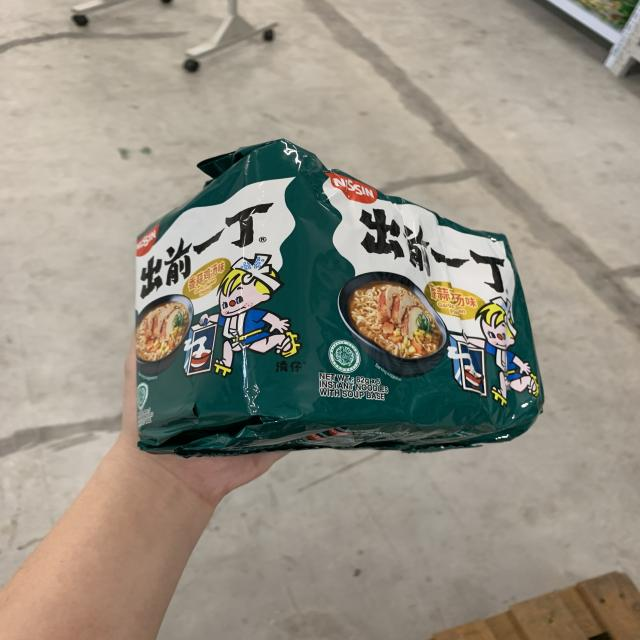object_name: (149, 176, 532, 450)
